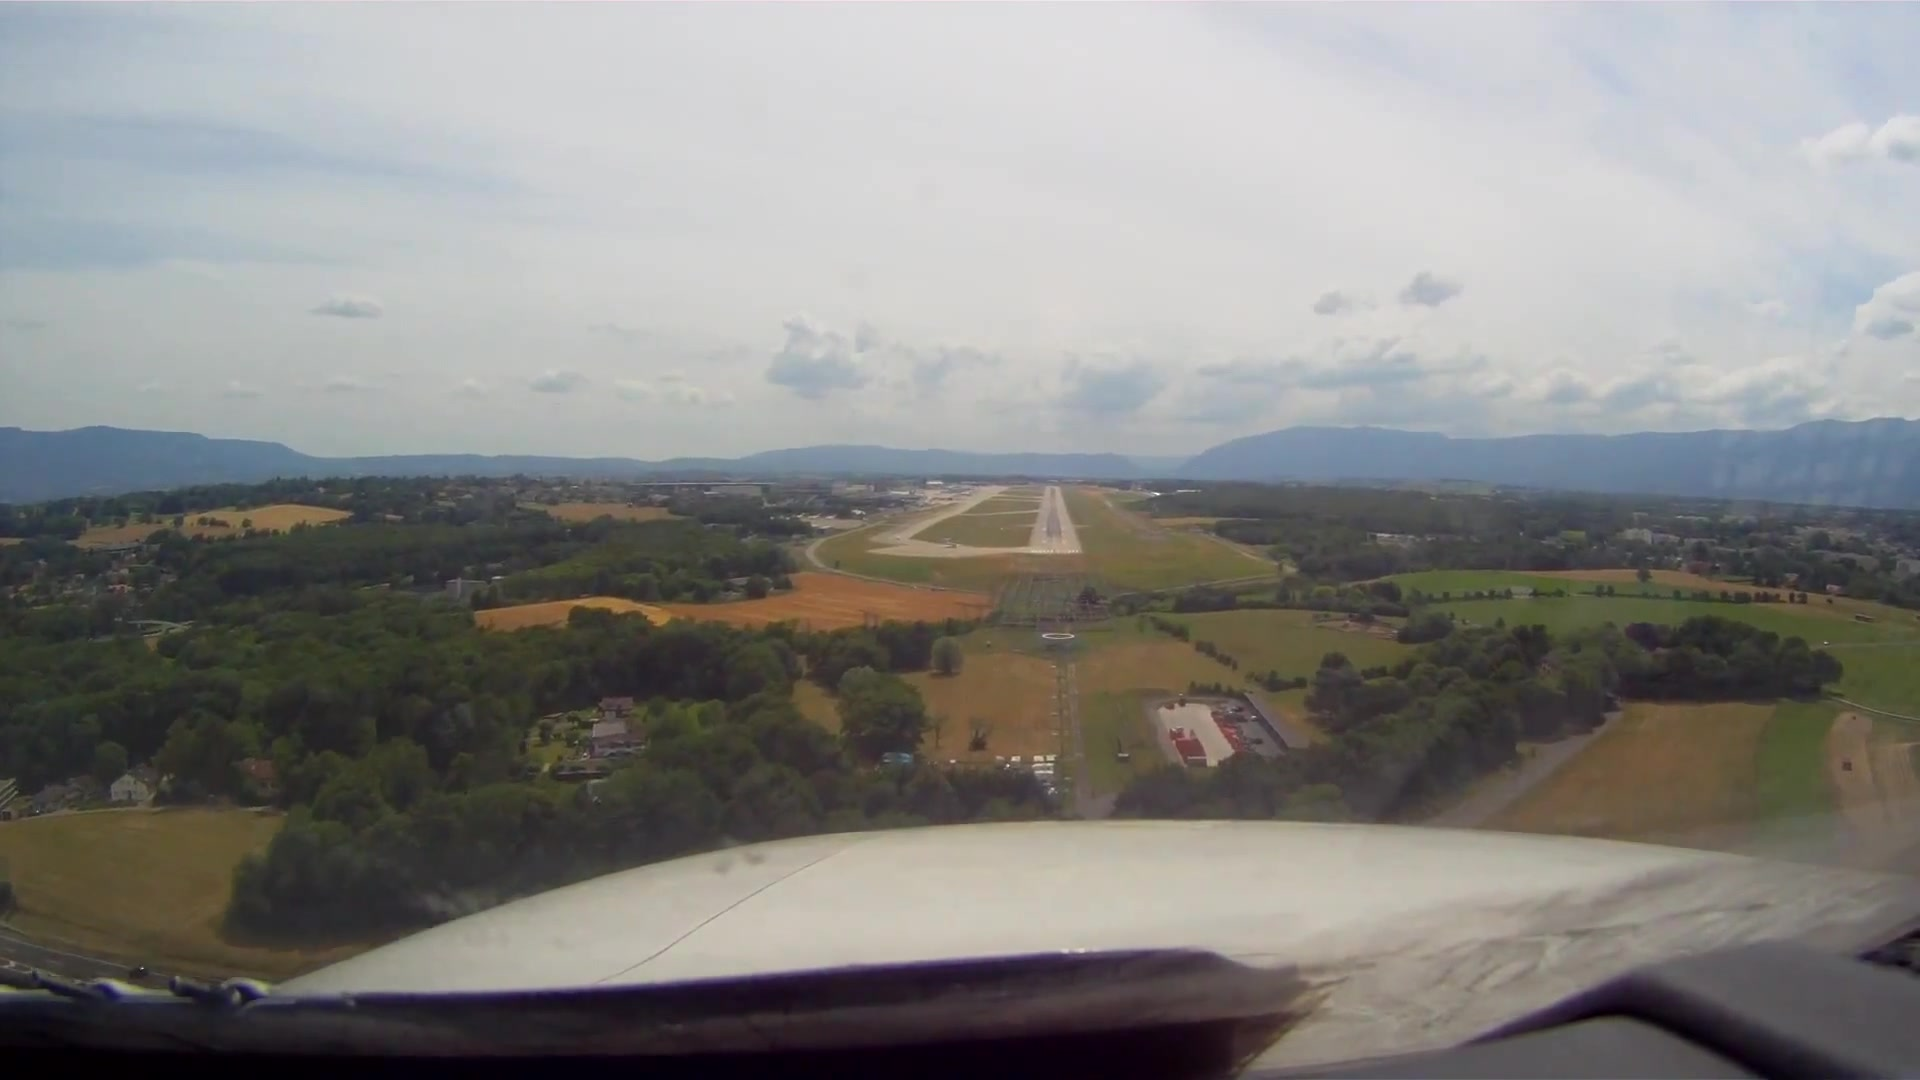entrance: (1030, 546, 1077, 555)
runway: (1023, 481, 1087, 556)
